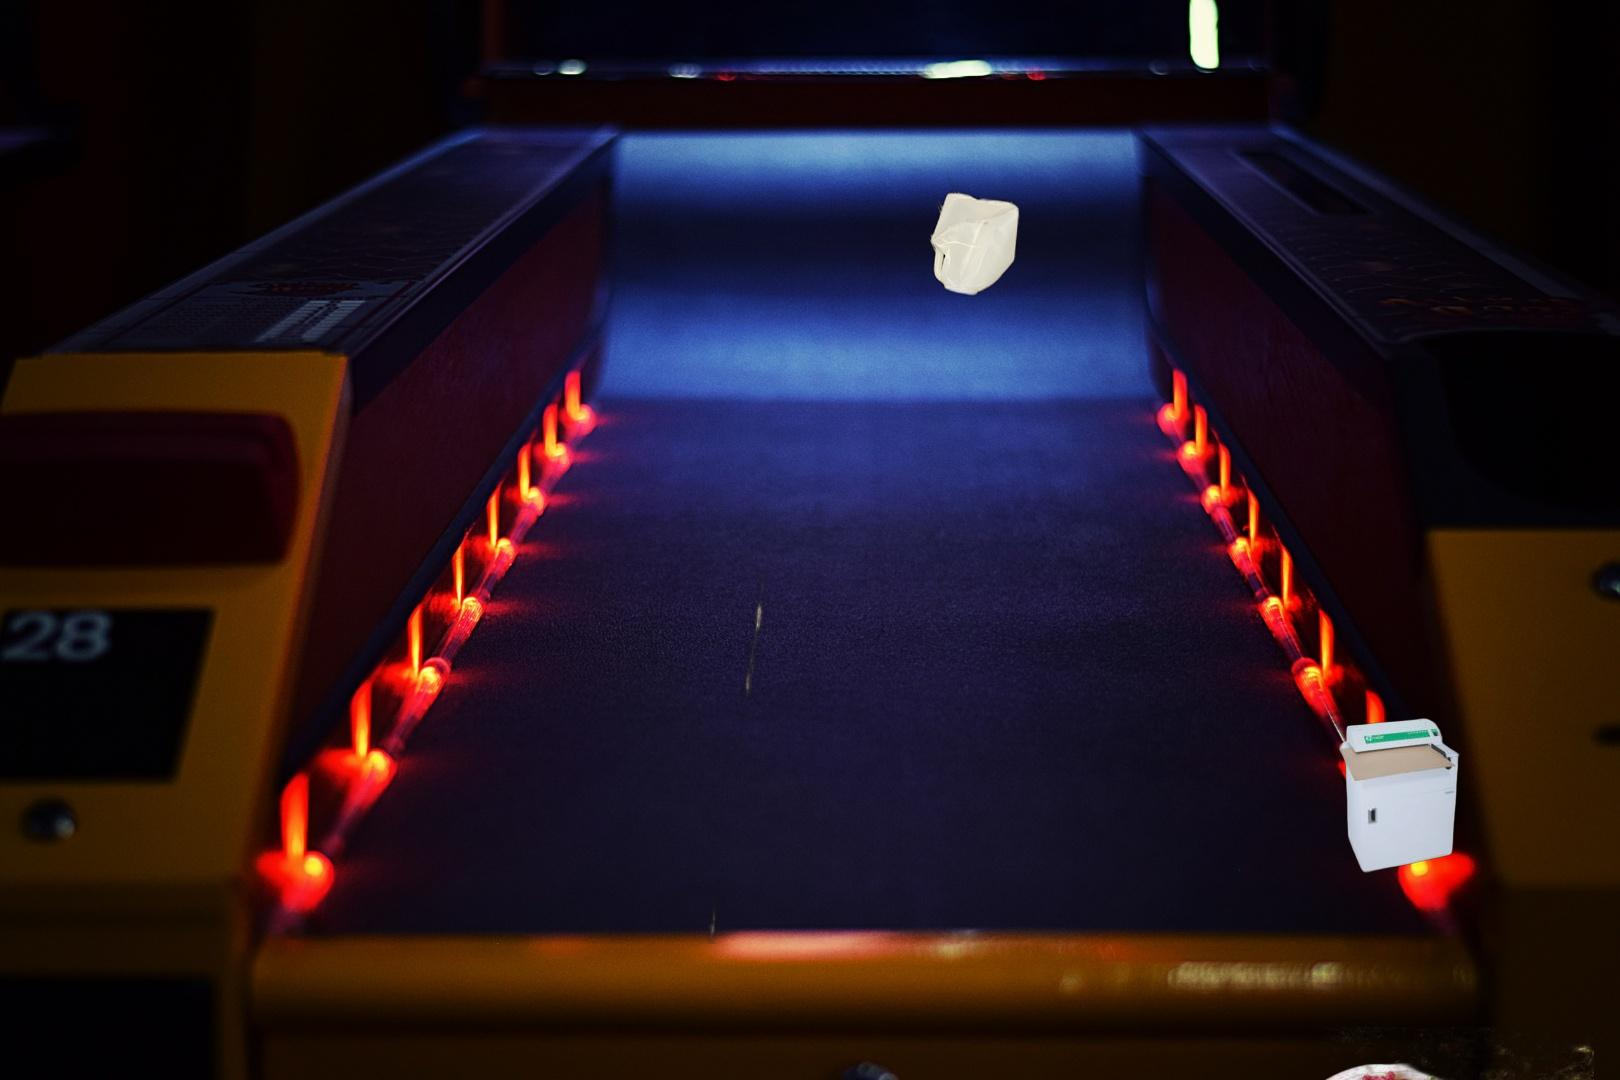biological: (1287, 957, 1620, 1080), (1319, 1026, 1593, 1080)
plastic-bottles: (925, 163, 1025, 303)
trashbox-cardboard: (497, 560, 1009, 944), (1336, 715, 1465, 875)
